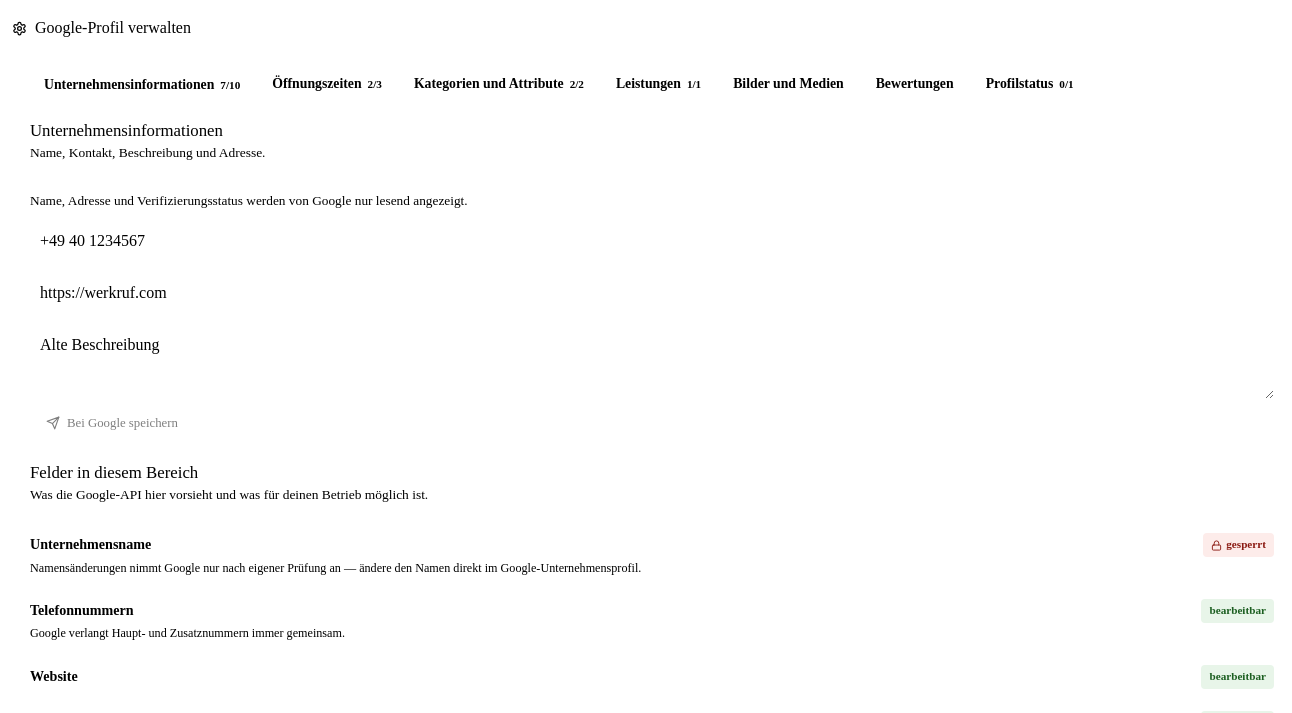
Scenario: Zustandsdarstellung › stellt eine Antwort ohne confirmed NICHT als Erfolg dar
This screenshot has width=1292, height=713.
(page scrolled)
Replace the text in the text box named "Unternehmensbeschreibung" with "Nicht bestätigt" at (652, 361), box top-left (30, 323), bottom-right (1274, 399)
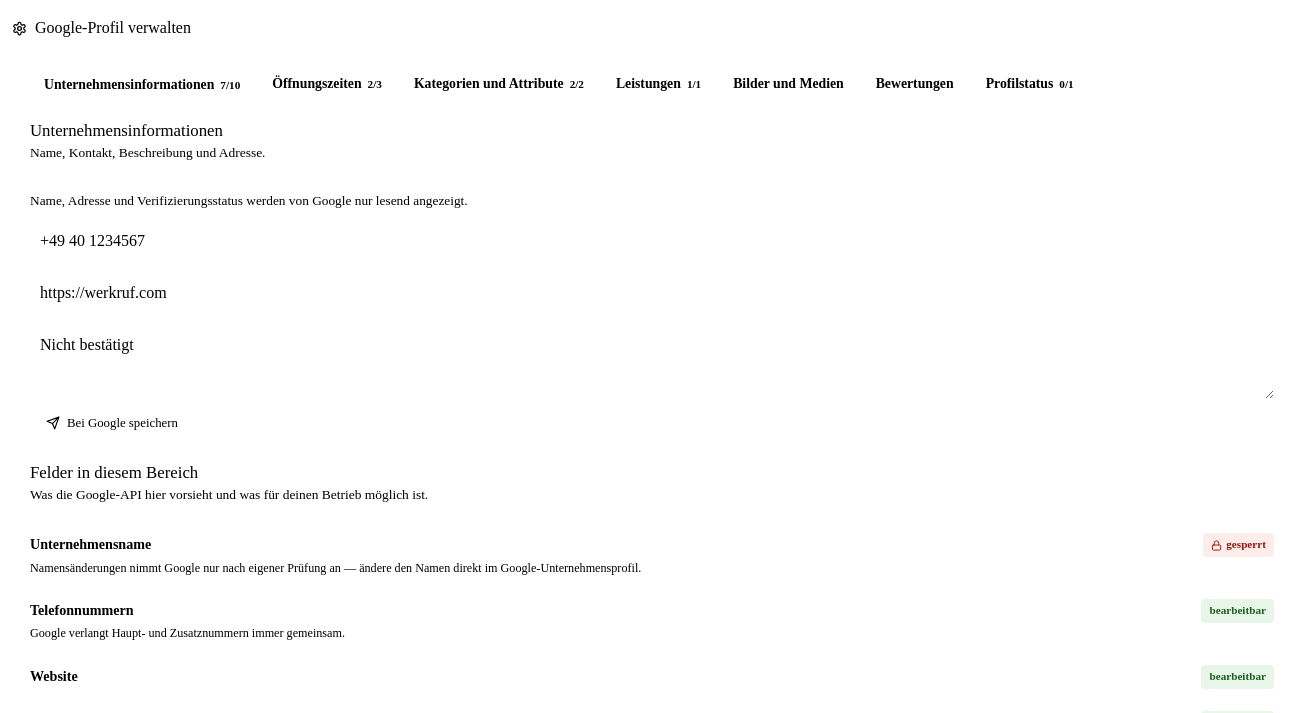
Click the button "Bei Google speichern" at (112, 423), box top-left (30, 407), bottom-right (194, 440)
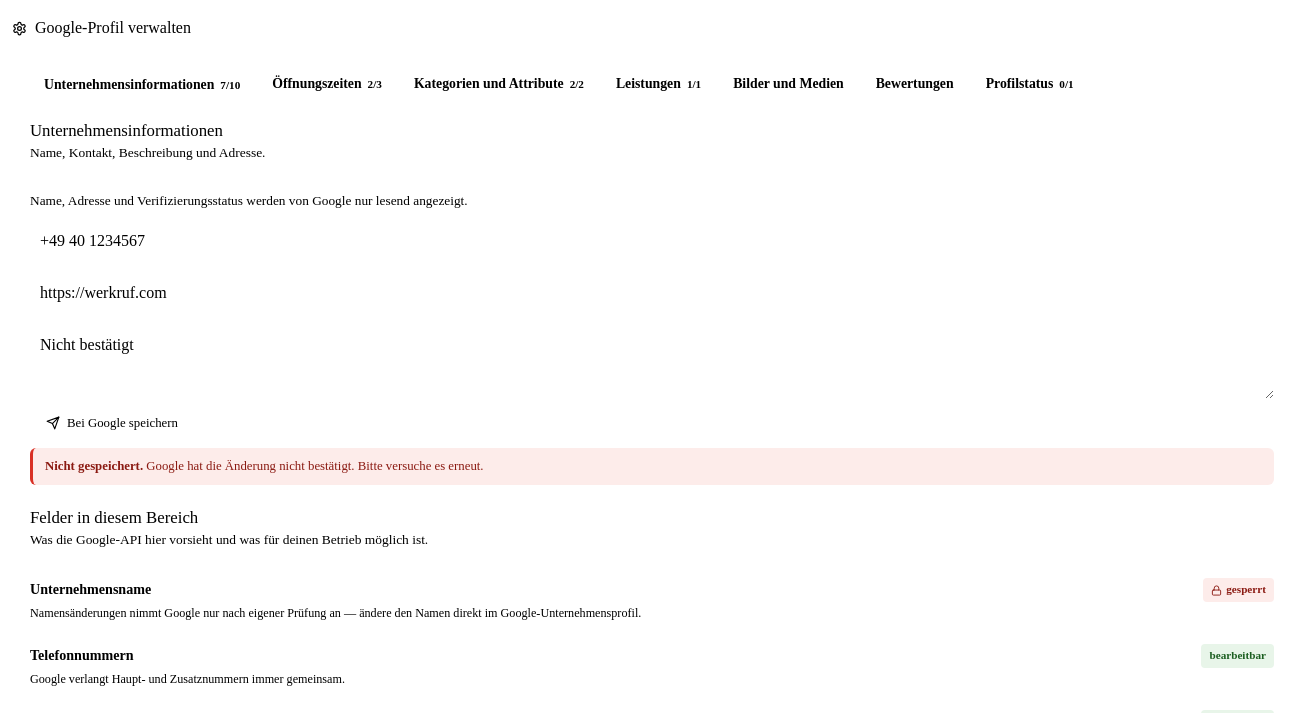
Expected: the message shows "nicht bestätigt", top-left (146, 459), bottom-right (484, 473)
